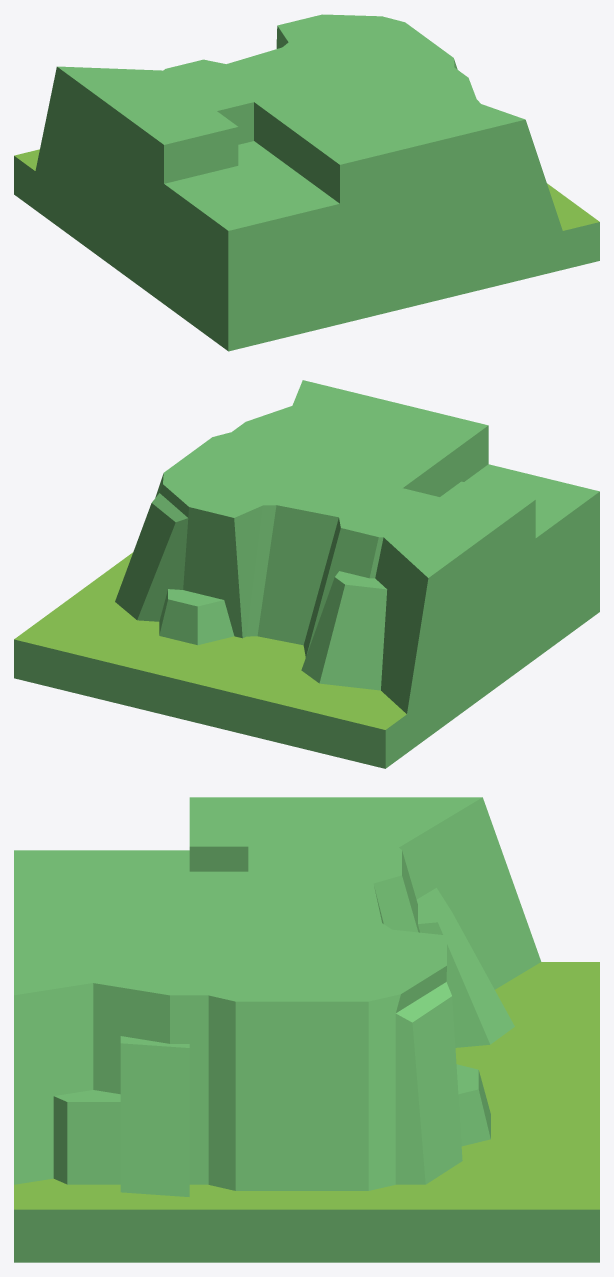
Rendered from x_zem_1_6_2_rmstrd.fbx.
3 renders of one model, top to bottom at view 1: azimuth 30°, elevation 25°; view 2: azimuth 150°, elevation 25°; view 3: azimuth 270°, elevation 25°, orthographic. The views are drawn at different scales.
Parts seen in each view (by area): view 1: x_zem_1_6_2_rmstrd1; view 2: x_zem_1_6_2_rmstrd1; view 3: x_zem_1_6_2_rmstrd1.
Boxes of the visible parts, box(x1,y1,x2,y2) form: x_zem_1_6_2_rmstrd1: box(14, 14, 599, 351); x_zem_1_6_2_rmstrd1: box(14, 380, 599, 768); x_zem_1_6_2_rmstrd1: box(14, 797, 599, 1262).
Bounding box in the file's own units: 10 × 4.1 × 10.
